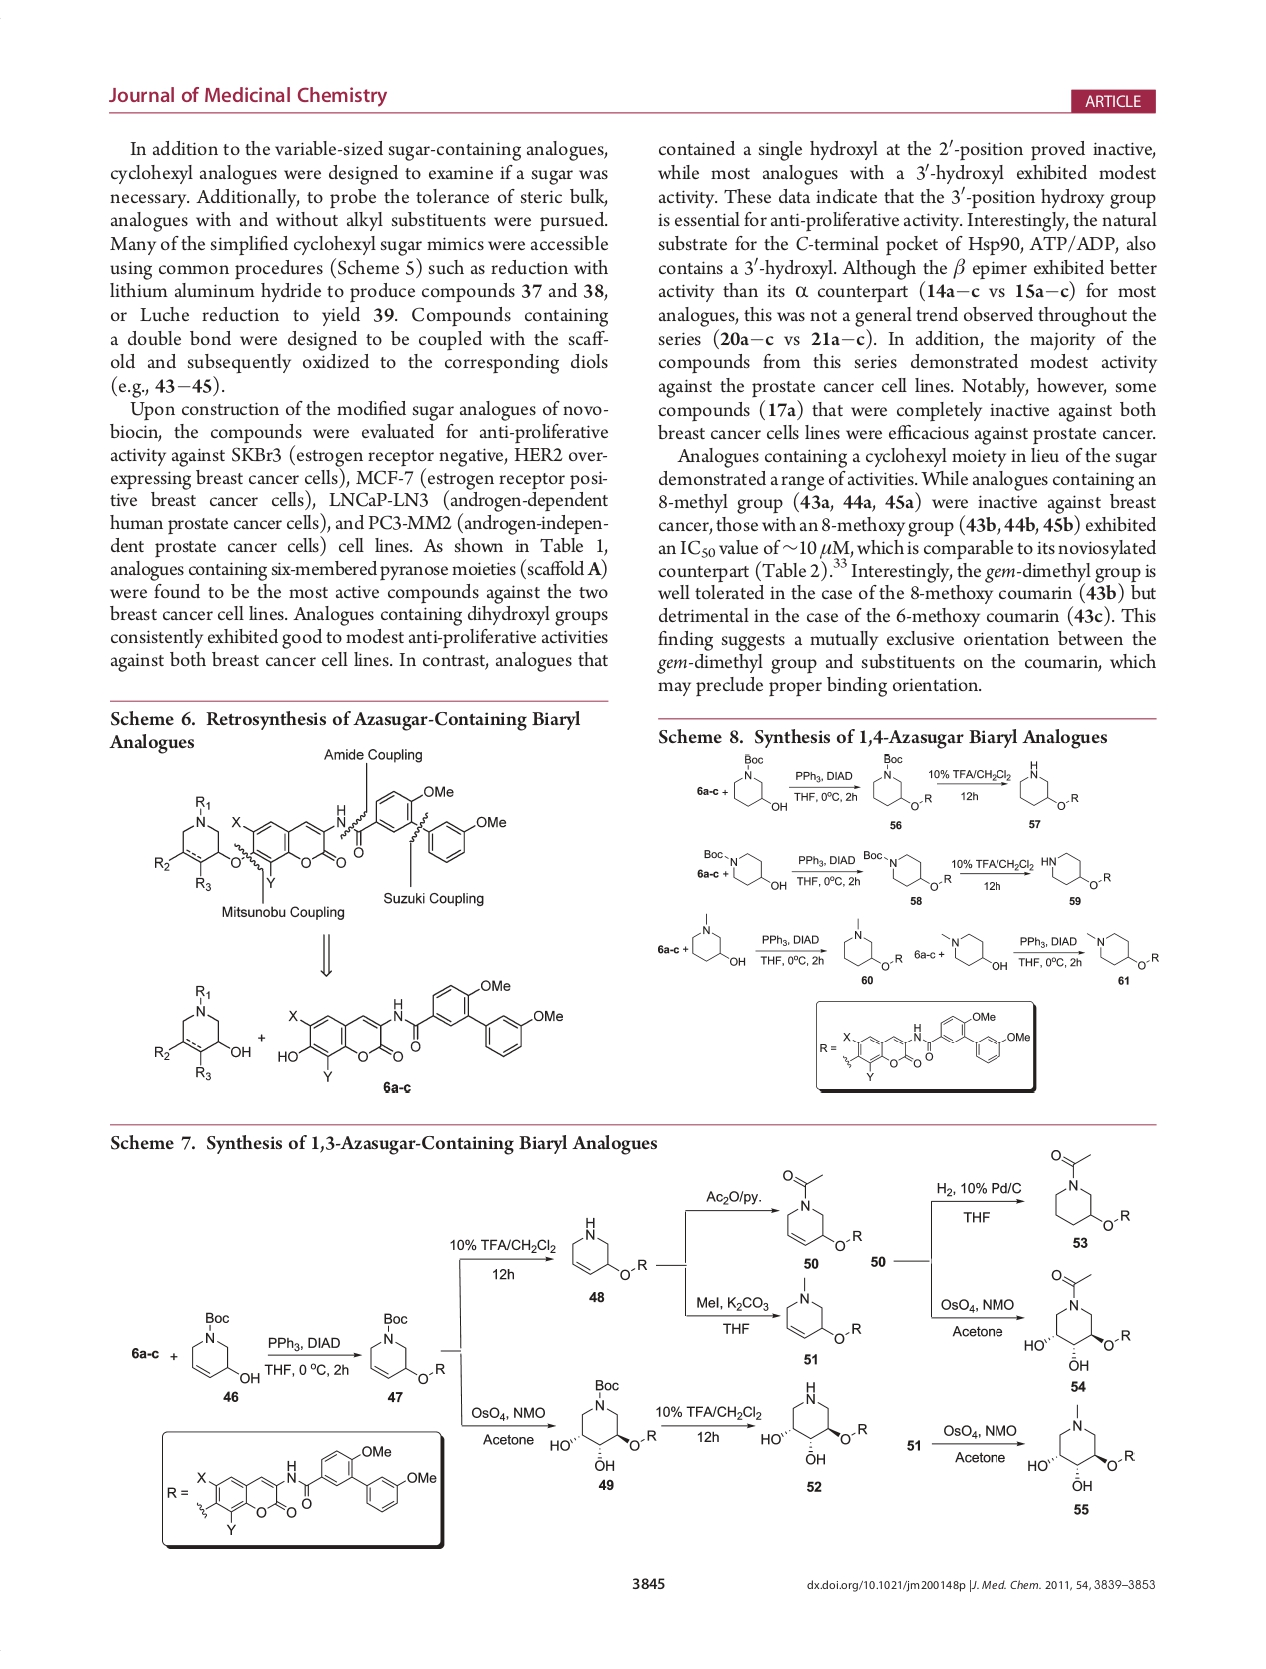exist_molecular: (152, 783, 509, 892), (275, 976, 564, 1083), (193, 1442, 438, 1537), (839, 1009, 1031, 1083), (1023, 1265, 1130, 1371), (152, 977, 257, 1083), (1027, 1399, 1141, 1493), (757, 1376, 868, 1470), (549, 1376, 658, 1471), (1043, 1142, 1133, 1231), (779, 1164, 863, 1255), (185, 1305, 265, 1387), (363, 1311, 445, 1386), (567, 1213, 650, 1283), (783, 1271, 860, 1345), (698, 840, 791, 895), (860, 843, 953, 895), (864, 751, 934, 813), (729, 750, 789, 817), (1016, 753, 1080, 814), (840, 912, 903, 972), (1084, 924, 1160, 972), (938, 923, 1009, 973), (689, 910, 746, 969), (1035, 848, 1110, 892)
